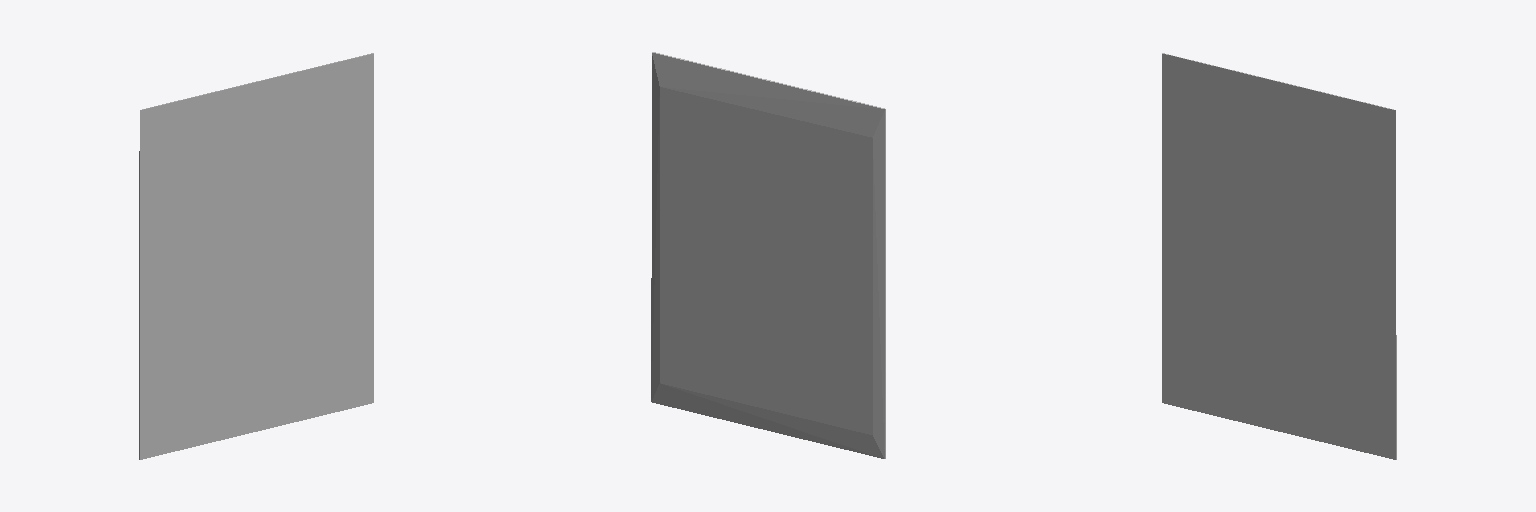
File: ToteA.L009.obj
3 views of the same model, side by side, from view 1: azimuth 30°, elevation 25°; view 2: azimuth 150°, elevation 25°; view 3: azimuth 330°, elevation 25° (orthographic).
Bounding box in the file's own units: 0.3125 × 0.4471 × 0.0058.